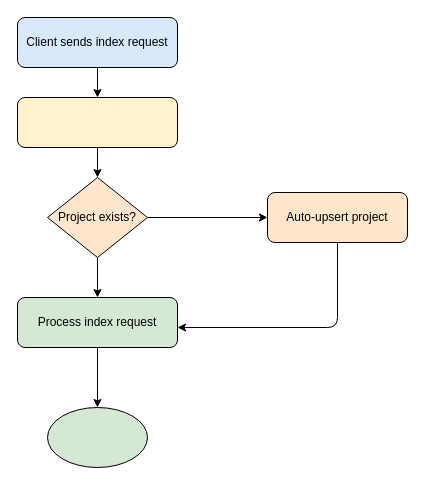
The diagram is 425 pixels wide and 485 high, and some of its shapes have lost their labels. Here are the shapes that lost their labels. From the top down, the centre of each, then its label:
(x=97, y=122): ensureProjectRegistered guard
(x=97, y=437): Return success
